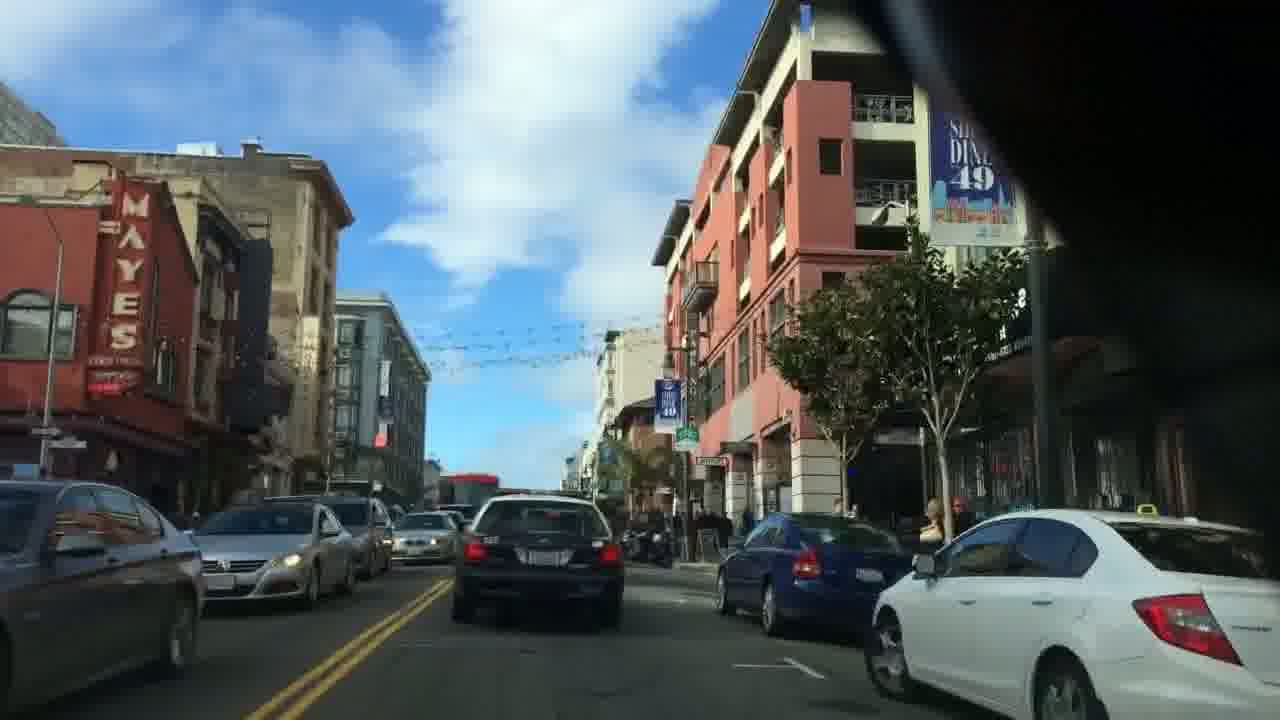car: (861, 506, 1280, 720), (0, 476, 205, 720), (714, 510, 914, 635), (453, 491, 623, 625), (185, 498, 355, 604), (317, 496, 393, 579), (391, 510, 459, 564)
pedestrian: (919, 495, 945, 554), (950, 495, 972, 538)
